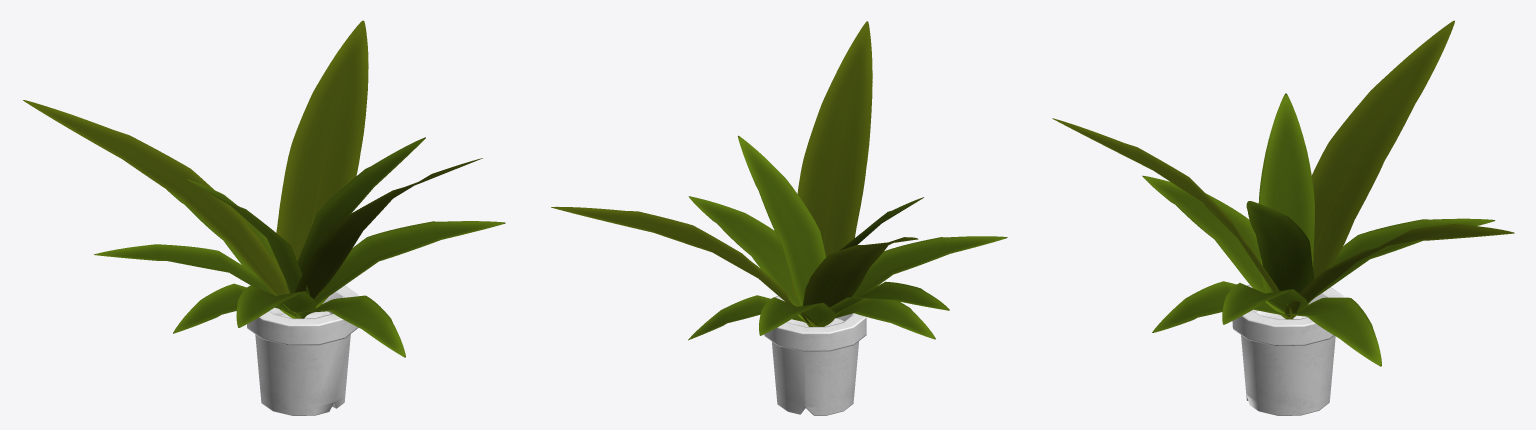
The model's file is Plant_E_Big.fbx.
3 renders of one model, left to right at view 1: azimuth 30°, elevation 25°; view 2: azimuth 150°, elevation 25°; view 3: azimuth 270°, elevation 25°, orthographic. The views are drawn at different scales.
Visible parts, largest first — view 1: U_Plant_E_Big; view 2: U_Plant_E_Big; view 3: U_Plant_E_Big.
Boxes of the visible parts, box(x1,y1,x2,y2) form: U_Plant_E_Big: box(23, 20, 505, 415); U_Plant_E_Big: box(551, 21, 1007, 415); U_Plant_E_Big: box(1052, 20, 1514, 415).
Size of the model in its own units: 185 by 147 by 202.
3 materials, 3 textured.
